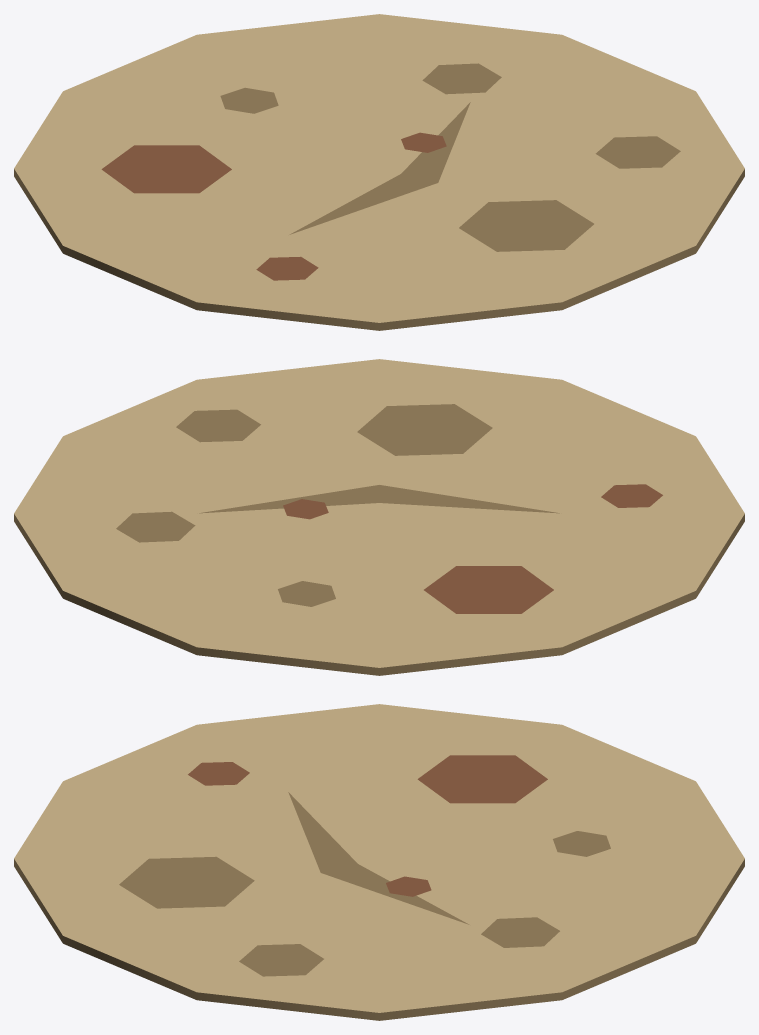
File: tortilla.fbx
3 renders of one model, top to bottom at view 1: azimuth 30°, elevation 25°; view 2: azimuth 150°, elevation 25°; view 3: azimuth 270°, elevation 25°, orthographic.
Visible parts, largest first — view 1: Tortilla; view 2: Tortilla; view 3: Tortilla.
Boxes of the visible parts, x1=… form: Tortilla: x1=14, y1=14, x2=744, y2=330; Tortilla: x1=14, y1=359, x2=744, y2=675; Tortilla: x1=14, y1=704, x2=744, y2=1020.
Bounding box in the file's own units: 0.3575 × 0.00496 × 0.3575.
